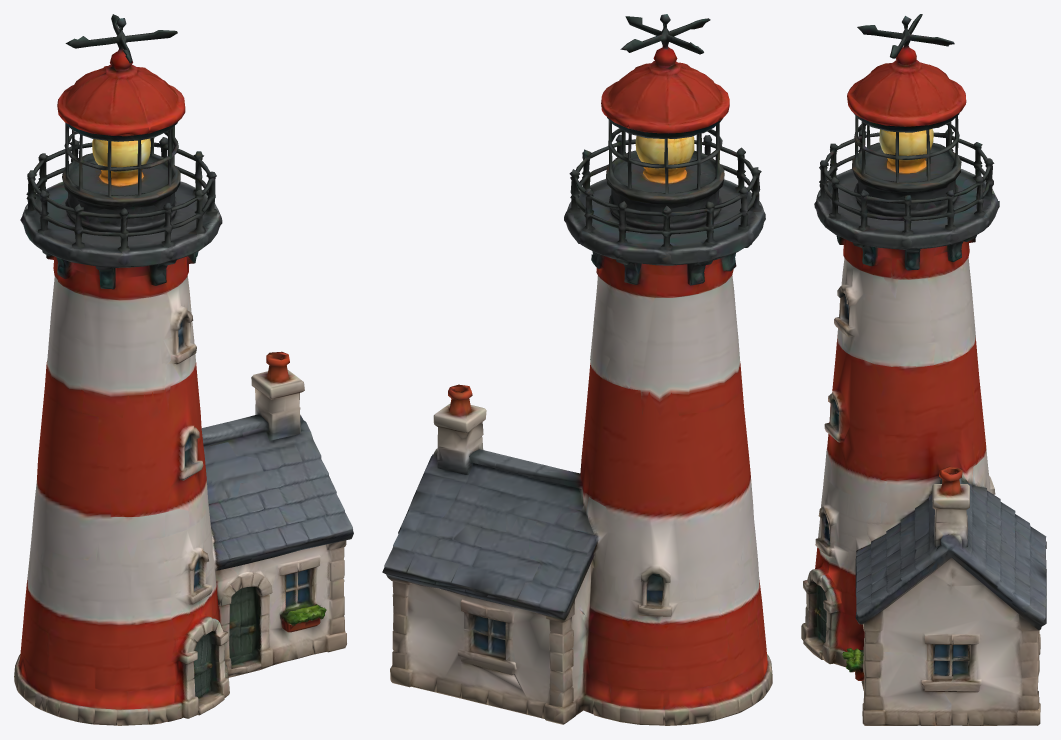
File: lighthouse.glb
The picture shows the model from 3 angles, left to right: view 1: azimuth 30°, elevation 25°; view 2: azimuth 150°, elevation 25°; view 3: azimuth 270°, elevation 25°; orthographic projection. The views are drawn at different scales.
Parts seen in each view (by area): view 1: lighthouse; view 2: lighthouse; view 3: lighthouse.
Part boxes in pixels (x1,y1,x2,y2): lighthouse: [14, 14, 353, 725]; lighthouse: [382, 14, 772, 725]; lighthouse: [801, 14, 1046, 725].
Size of the model in its own units: 11.39 by 24 by 8.64.
1 material, 1 textured.
